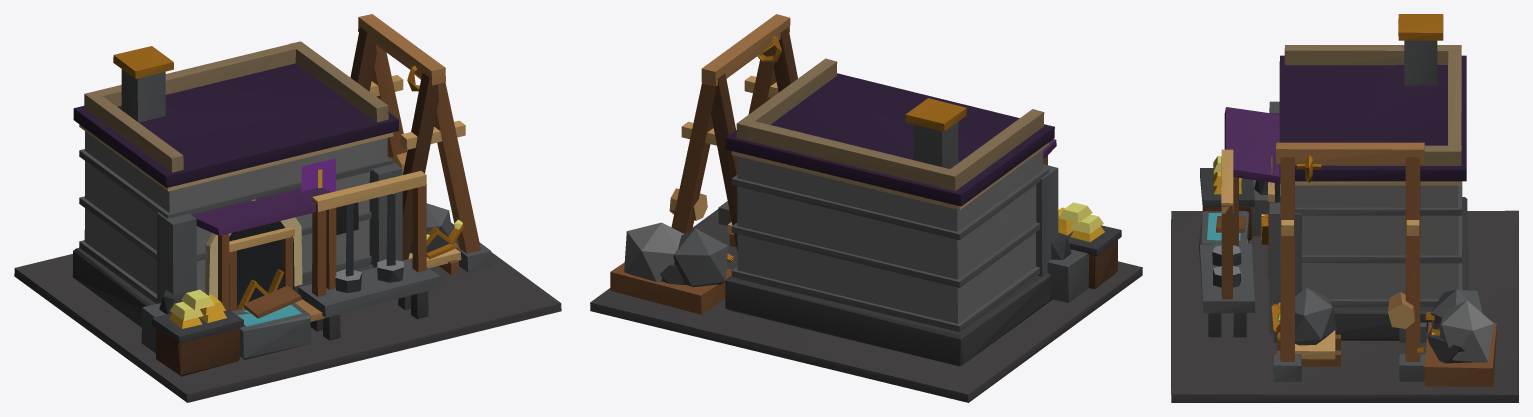
3 views of the same model, side by side, from view 1: azimuth 30°, elevation 25°; view 2: azimuth 150°, elevation 25°; view 3: azimuth 270°, elevation 25° (orthographic).
Visible parts, largest first — view 1: WK_CityGoldworks_LOD2_Compact; view 2: WK_CityGoldworks_LOD2_Compact; view 3: WK_CityGoldworks_LOD2_Compact.
Boxes of the visible parts, x1=… form: WK_CityGoldworks_LOD2_Compact: x1=14, y1=14, x2=561, y2=402; WK_CityGoldworks_LOD2_Compact: x1=590, y1=14, x2=1142, y2=402; WK_CityGoldworks_LOD2_Compact: x1=1171, y1=14, x2=1518, y2=402.
Bounding box in the file's own units: 8.96 × 5.35 × 7.16.
